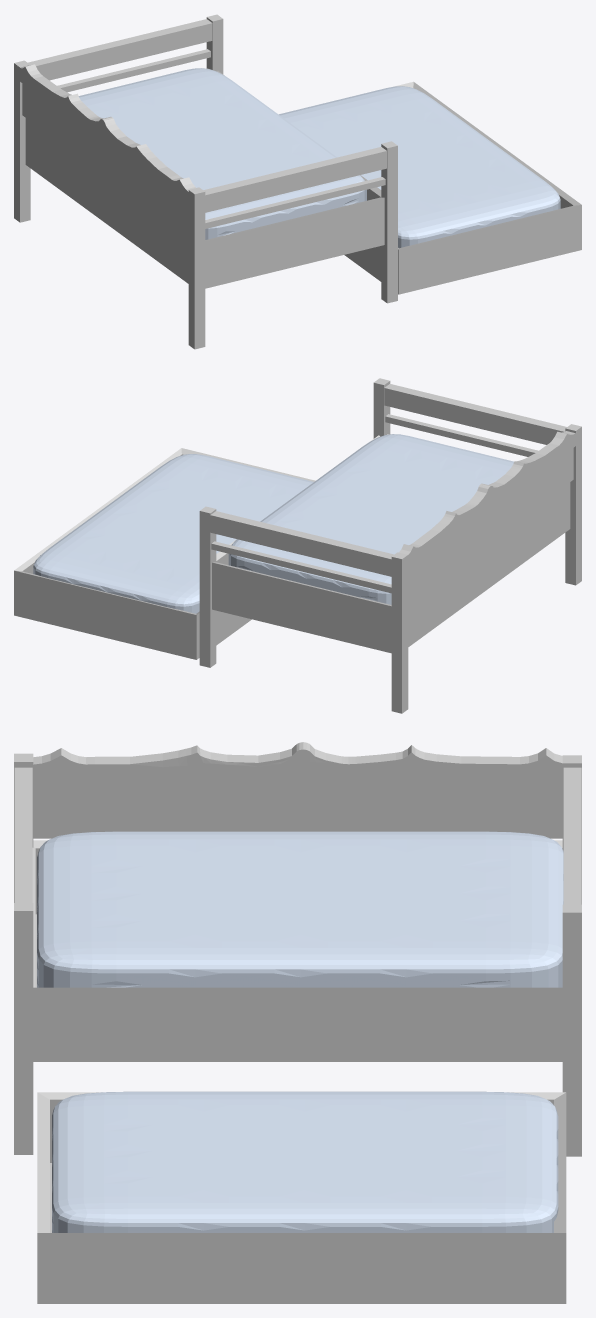
File: sweethome3d-contributions-trundle-bed.glb
3 renders of one model, top to bottom at view 1: azimuth 30°, elevation 25°; view 2: azimuth 150°, elevation 25°; view 3: azimuth 270°, elevation 25°, orthographic. The views are drawn at different scales.
Visible parts, largest first — view 1: mattress, mattress_1, PolyMesh_1, PolyMesh_1_1, Cube_5, PolyMesh_2, Cube_2_1, Cube_2, Cube_1_2, Cube_1_1, Cube_1_3, Cube_3_1 (+2 smaller); view 2: mattress, mattress_1, PolyMesh_1, PolyMesh_1_1, Cube_5, PolyMesh_2, Cube_2, Cube_2_1, Cube_1_3, Cube_1, Cube_1_2, Cube_3 (+2 smaller); view 3: mattress_1, mattress, PolyMesh_1_1, PolyMesh_1, Cube_5, PolyMesh_2, Cube_1_1, Cube_1, Cube_2, Cube_2_1.
Boxes of the visible parts, left/top/right/bottom form: mattress: left=279, top=86, right=560, bottom=248; mattress_1: left=78, top=68, right=366, bottom=239; PolyMesh_1: left=25, top=68, right=384, bottom=288; PolyMesh_1_1: left=344, top=81, right=581, bottom=294; Cube_5: left=22, top=83, right=188, bottom=236; PolyMesh_2: left=14, top=64, right=195, bottom=205; Cube_2_1: left=203, top=147, right=386, bottom=212; Cube_2: left=28, top=19, right=212, bottom=80; Cube_1_2: left=188, top=187, right=205, bottom=349; Cube_1_1: left=381, top=141, right=397, bottom=303; Cube_1_3: left=14, top=60, right=30, bottom=222; Cube_3_1: left=205, top=177, right=385, bottom=228; mattress: left=33, top=454, right=313, bottom=613; mattress_1: left=228, top=434, right=513, bottom=604; PolyMesh_1: left=212, top=434, right=570, bottom=653; PolyMesh_1_1: left=14, top=448, right=315, bottom=659; Cube_5: left=408, top=448, right=573, bottom=600; PolyMesh_2: left=399, top=431, right=577, bottom=572; Cube_2: left=210, top=511, right=393, bottom=576; Cube_2_1: left=384, top=384, right=566, bottom=444; Cube_1_3: left=391, top=552, right=408, bottom=713; Cube_1: left=199, top=506, right=216, bottom=667; Cube_1_2: left=565, top=424, right=581, bottom=585; Cube_3: left=211, top=541, right=391, bottom=593; mattress_1: left=37, top=831, right=563, bottom=987; mattress: left=52, top=1091, right=558, bottom=1232; PolyMesh_1_1: left=37, top=1092, right=566, bottom=1303; PolyMesh_1: left=32, top=840, right=562, bottom=1061; Cube_5: left=33, top=783, right=562, bottom=838; PolyMesh_2: left=33, top=742, right=562, bottom=783; Cube_1_1: left=14, top=903, right=33, bottom=1154; Cube_1: left=562, top=904, right=581, bottom=1156; Cube_2: left=563, top=767, right=581, bottom=904; Cube_2_1: left=14, top=767, right=32, bottom=902.
Size of the model in its own units: 7.05 by 2.81 by 5.59.
